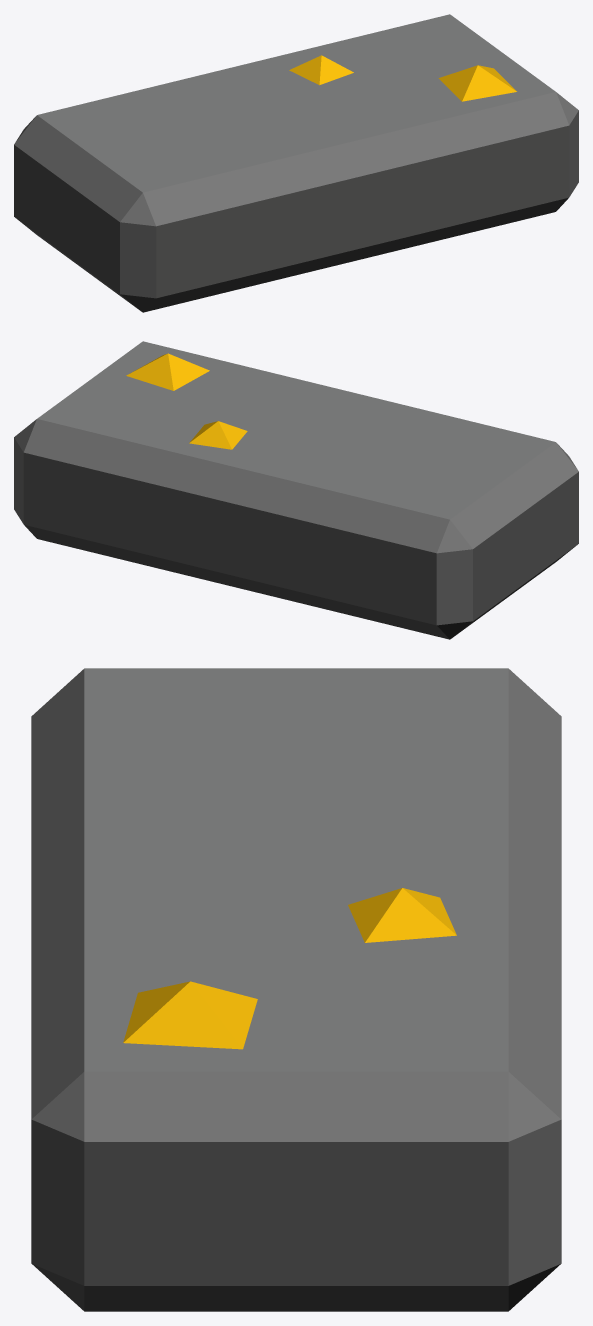
Rendered from m_kub_ore_flatBrick.FBX.
3 renders of one model, top to bottom at view 1: azimuth 30°, elevation 25°; view 2: azimuth 150°, elevation 25°; view 3: azimuth 270°, elevation 25°, orthographic. The views are drawn at different scales.
Parts seen in each view (by area): view 1: m_kub_ore_flatBrick; view 2: m_kub_ore_flatBrick; view 3: m_kub_ore_flatBrick.
Boxes of the visible parts, <box> form: m_kub_ore_flatBrick: <box>14,14,578,312</box>; m_kub_ore_flatBrick: <box>14,341,578,639</box>; m_kub_ore_flatBrick: <box>31,668,561,1311</box>.
Bounding box in the file's own units: 2 × 0.5826 × 1.
